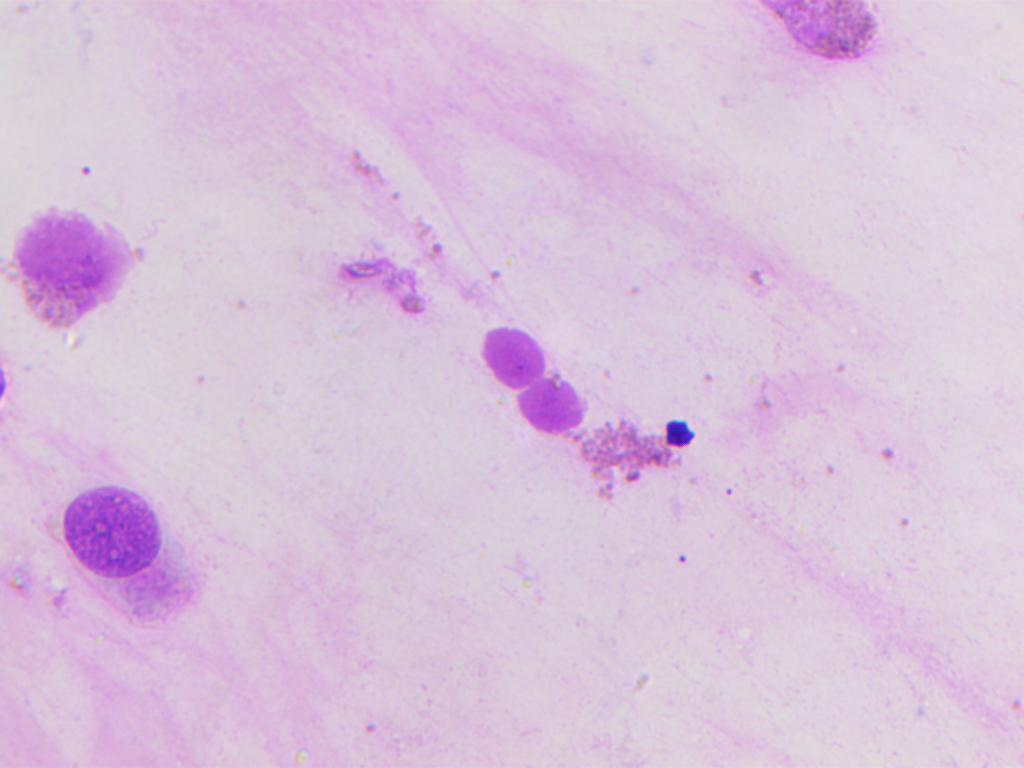eosinophil: (4, 202, 149, 339), (723, 0, 923, 63), (560, 419, 707, 500)
epithelial: (62, 479, 198, 626), (514, 377, 588, 436), (482, 325, 546, 388)
